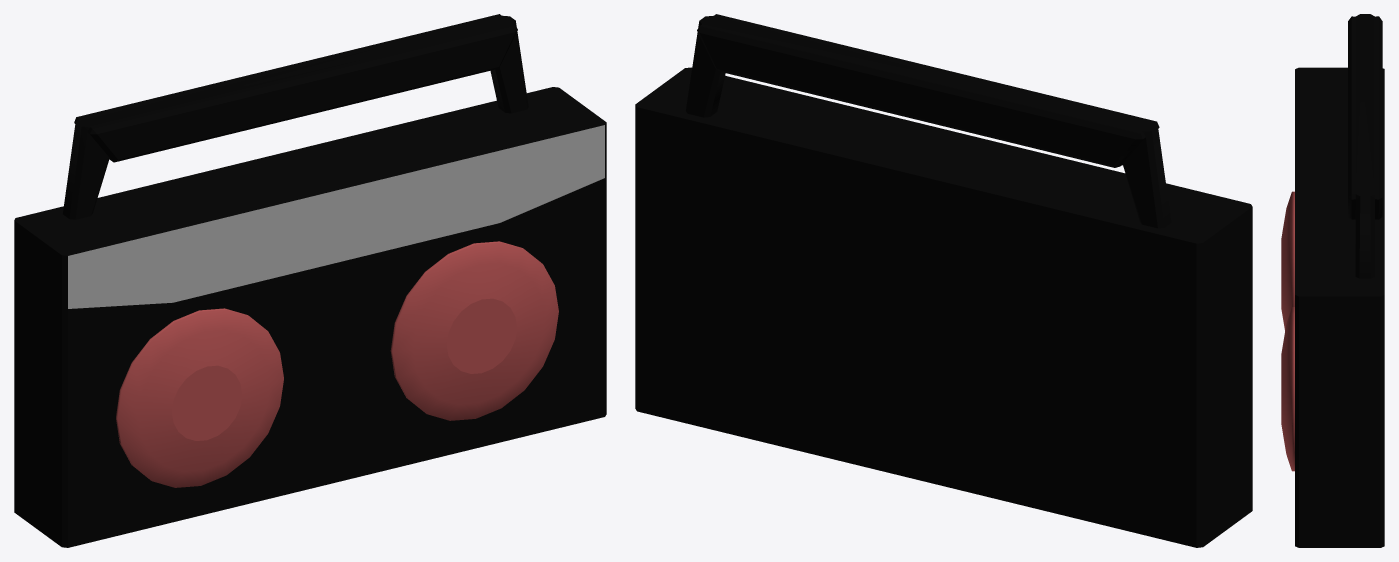
File: boombox.fbx
3 views of the same model, side by side, from view 1: azimuth 30°, elevation 25°; view 2: azimuth 150°, elevation 25°; view 3: azimuth 270°, elevation 25° (orthographic). The views are drawn at different scales.
Visible parts, largest first — view 1: pCube1, pCylinder1; view 2: pCube1; view 3: pCube1, pCylinder1.
Boxes of the visible parts, left/top/right/bottom form: pCube1: left=14, top=14, right=606, bottom=547; pCylinder1: left=116, top=241, right=558, bottom=487; pCube1: left=635, top=14, right=1252, bottom=547; pCube1: left=1295, top=14, right=1384, bottom=547; pCylinder1: left=1281, top=191, right=1294, bottom=471.
Bounding box in the file's own units: 258 × 173 × 49.31.
